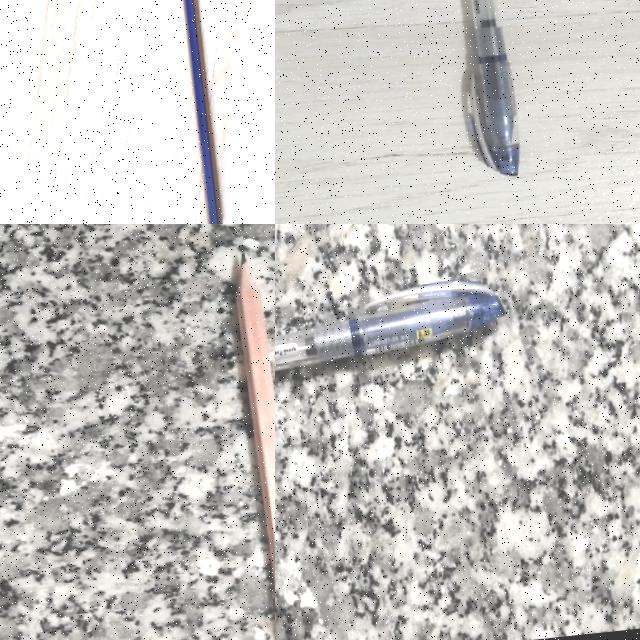pen: (275, 282, 504, 370), (471, 0, 520, 176)
pencil: (238, 256, 274, 576), (185, 0, 222, 223)
